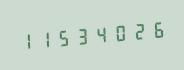five: (55, 23, 73, 51)
four: (93, 19, 111, 48)
one: (36, 24, 54, 53), (17, 26, 35, 54)
six: (150, 14, 168, 43)
three: (74, 21, 92, 49)
two: (131, 16, 149, 44)
zero: (112, 18, 130, 46)
